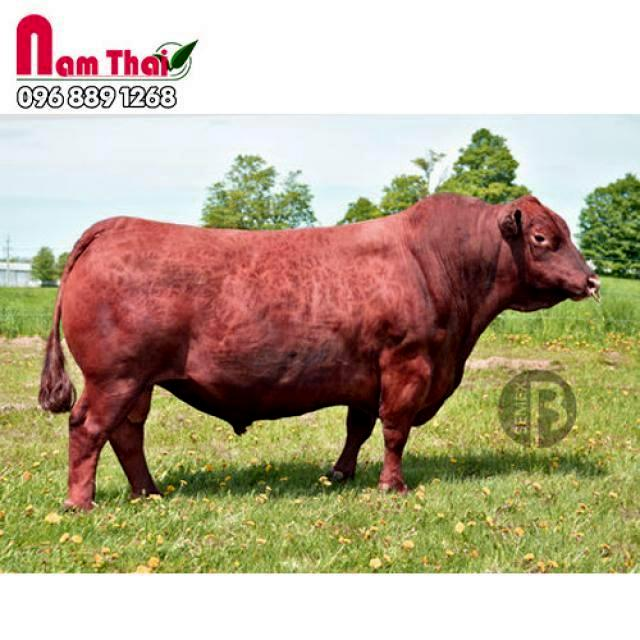COW: (40, 195, 598, 508)
